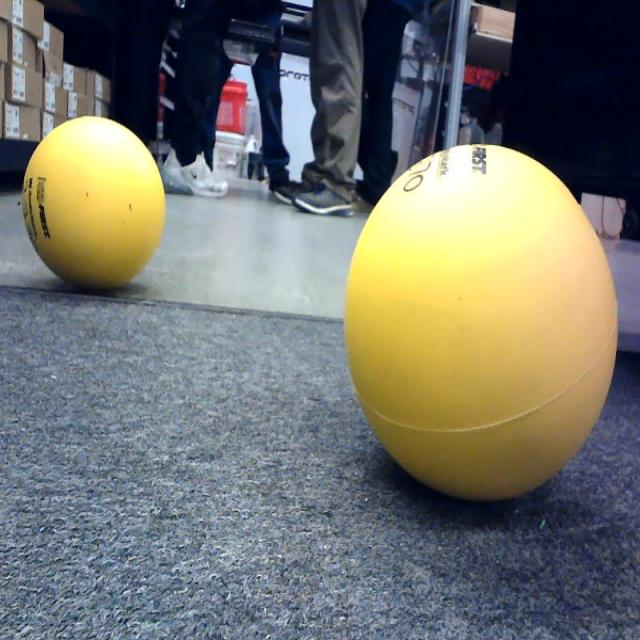Fuel: (344, 143, 618, 501), (22, 116, 165, 290)
